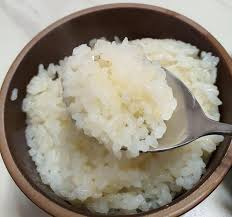ssalbab: (21, 34, 225, 214)
